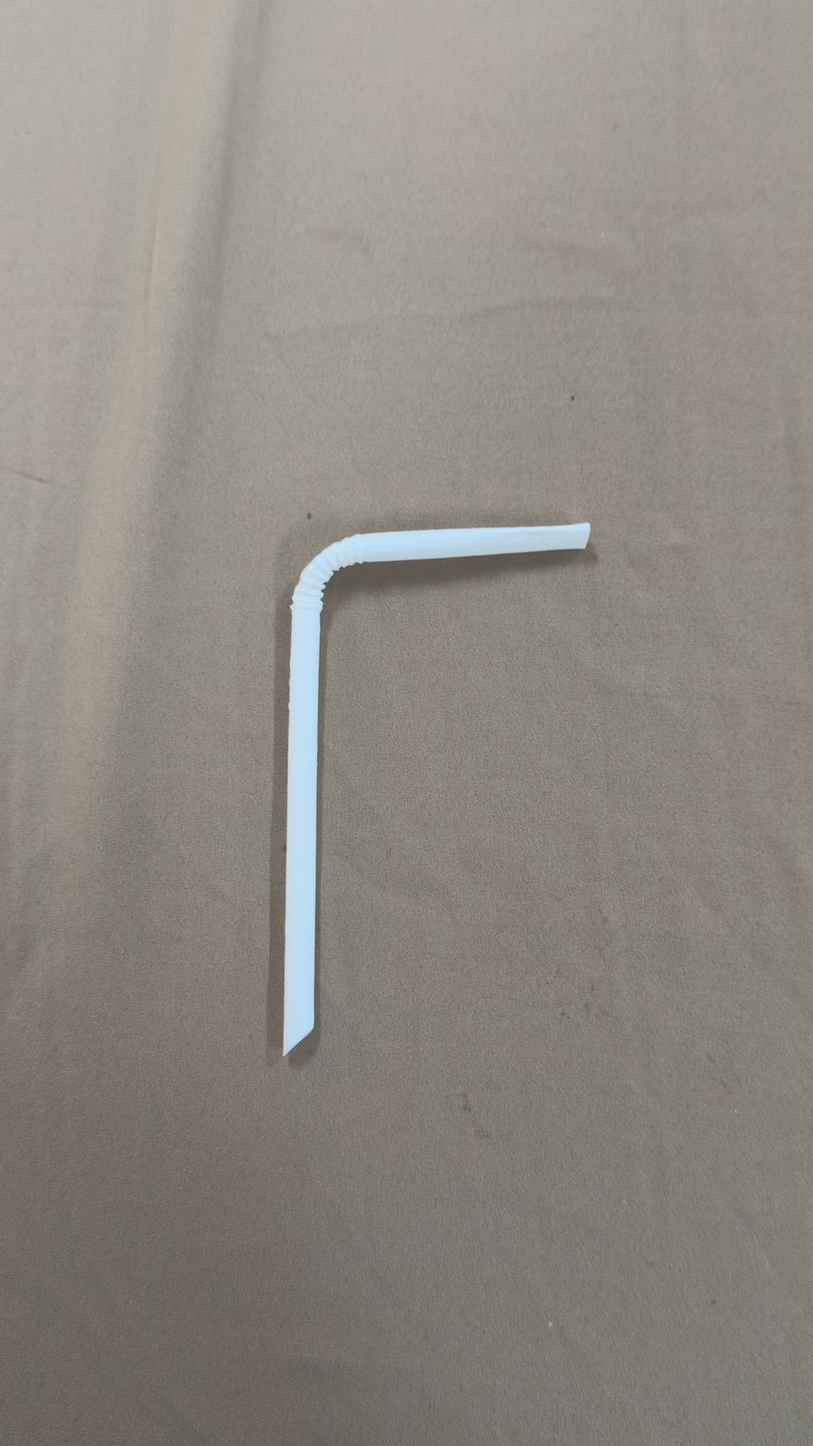plastic: (81, 148, 732, 1305)
